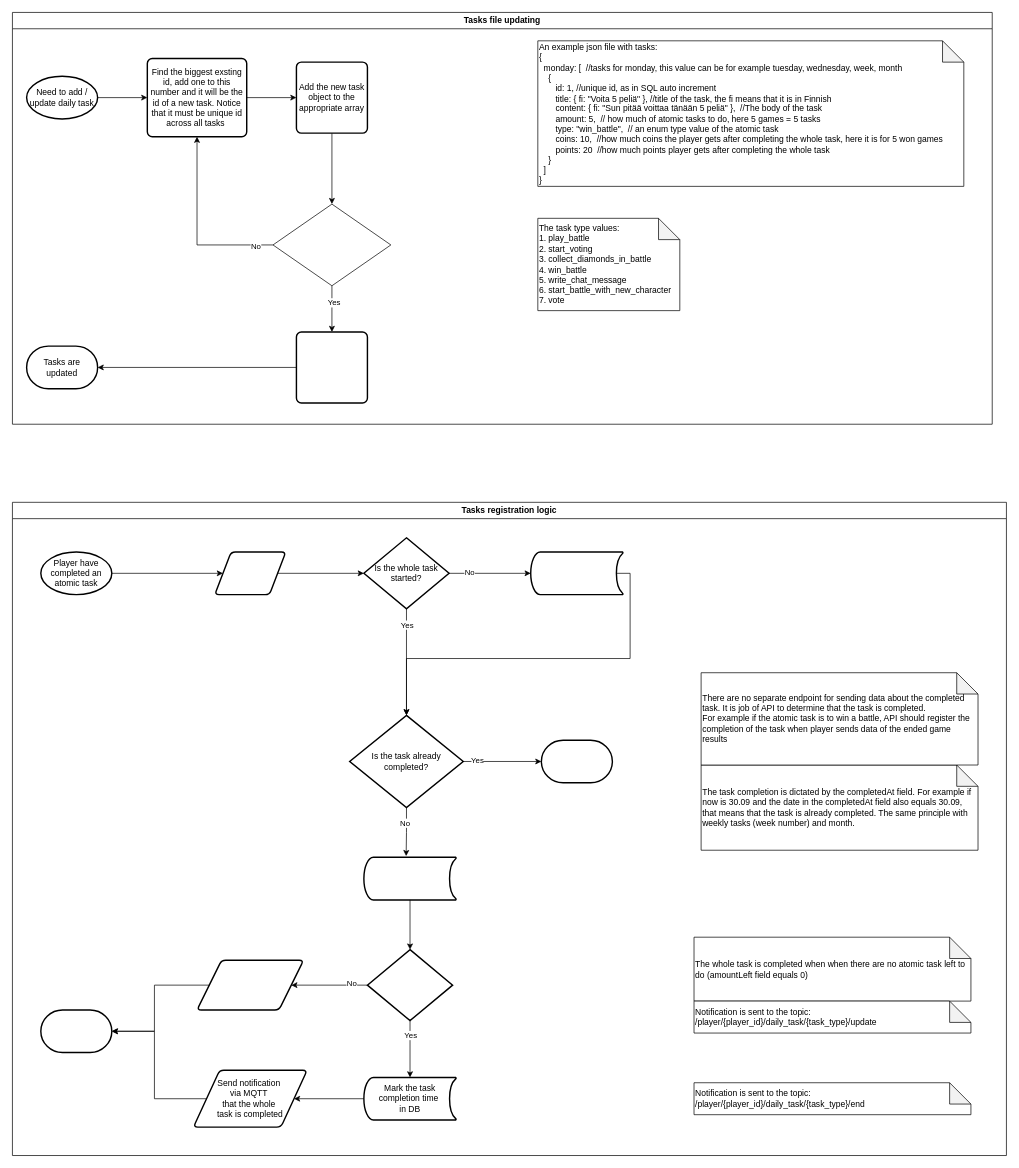
This 1019x1168 diagram has some shape labels left out. Each missing label, with the centre of its shape:
"Are all new tasks added?" goes at point 331,244.
"Is the whole task completed?" goes at point 409,985.
"Nothing else to do" goes at point 576,761.
"Player gets the notification about task" goes at point 76,1031.
"Register the atomic task completion in DB" goes at point 410,878.
"Restrart server with the updated file, so that the tasks are loaded to RAM" goes at point 331,367.
"Send notification via MQTT that atomic task is completed" goes at point 250,984.
"Sends data about it" goes at point 250,573.
"Write the starting date to DB" goes at point 576,573.
